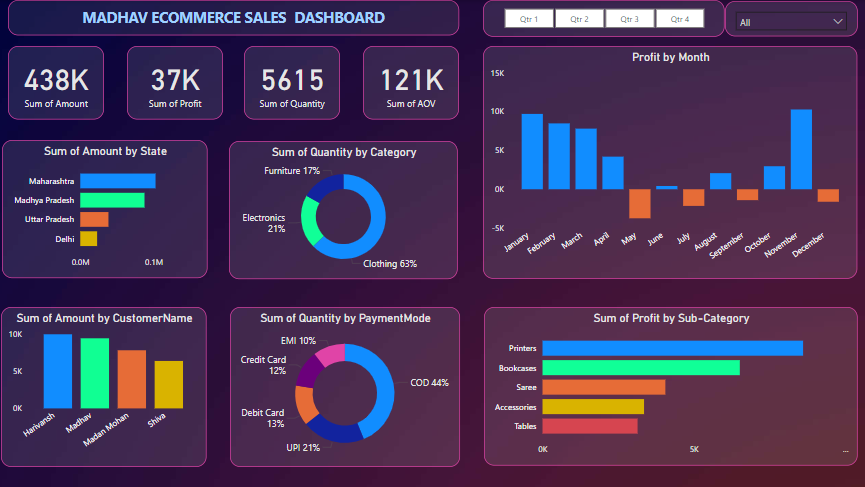

The dashboard page shown, as its layout file describes it:
{"tool":"powerbi","page":{"name":"Page 1","canvas":[1280,720],"ordinal":0},"visuals":[{"type":"textbox","box":[17.8,0,662.8,52.1],"z":0},{"type":"columnChart","title":"Profit by Month","fields":{"Category":["Orders.Order Date.Variation.Date Hierarchy.Month"],"Y":["Details.Profit"]},"box":[716.3,67.2,550.3,341.7],"z":1000},{"type":"barChart","fields":{"Category":["Details.Sub-Category"],"Y":["Details.Profit"]},"box":[717.7,451.5,548.9,233.3],"z":2000},{"type":"donutChart","fields":{"Category":["Details.Category"],"Y":["Details.Quantity"]},"box":[343.1,207.2,336.2,203.1],"z":3000},{"type":"donutChart","fields":{"Y":["Details.Quantity"],"Category":["Details.PaymentMode"]},"box":[343.3,451.5,337.6,234.6],"z":4000},{"type":"card","fields":{"Values":["Details.Amount"]},"box":[17.8,67.2,141.3,108.4],"z":5000},{"type":"card","fields":{"Values":["Details.Profit"]},"box":[192.1,67.2,141.3,108.4],"z":6000},{"type":"card","fields":{"Values":["Details.Quantity"]},"box":[365,67.2,141.3,108.4],"z":7000},{"type":"card","fields":{"Values":["Details.AOV"]},"box":[539.3,67.2,141.3,108.4],"z":8000},{"type":"barChart","fields":{"Category":["Orders.State"],"Y":["Details.Amount"]},"box":[8.2,205.8,301.9,203.1],"z":9000},{"type":"columnChart","fields":{"Category":["Orders.CustomerName"],"Y":["Details.Amount"]},"box":[8,451,302,235],"z":10000},{"type":"slicer","fields":{"Values":["Orders.Order Date.Variation.Date Hierarchy.Quarter"]},"box":[716.3,0,355.4,53.5],"z":11000},{"type":"slicer","fields":{"Values":["Orders.State"]},"box":[1071.7,1.4,194.9,52.1],"z":12000}]}

Visuals, with their boxes in screenshot pixels (x1, y1, x2, y2), scaled from the page's 1280x720 canvas onto the 865x487 screenshot:
textbox: left=12, top=0, right=460, bottom=35
"Profit by Month" columnChart: left=484, top=45, right=856, bottom=277
barChart - Details.Sub-Category x Details.Profit: left=485, top=305, right=856, bottom=463
donutChart - Details.Category x Details.Quantity: left=232, top=140, right=459, bottom=278
donutChart - Details.Quantity x Details.PaymentMode: left=232, top=305, right=460, bottom=464
card - Details.Amount: left=12, top=45, right=108, bottom=119
card - Details.Profit: left=130, top=45, right=225, bottom=119
card - Details.Quantity: left=247, top=45, right=342, bottom=119
card - Details.AOV: left=364, top=45, right=460, bottom=119
barChart - Orders.State x Details.Amount: left=6, top=139, right=210, bottom=277
columnChart - Orders.CustomerName x Details.Amount: left=5, top=305, right=209, bottom=464
slicer - Orders.Order Date.Variation.Date Hierarchy.Quarter: left=484, top=0, right=724, bottom=36
slicer - Orders.State: left=724, top=1, right=856, bottom=36
